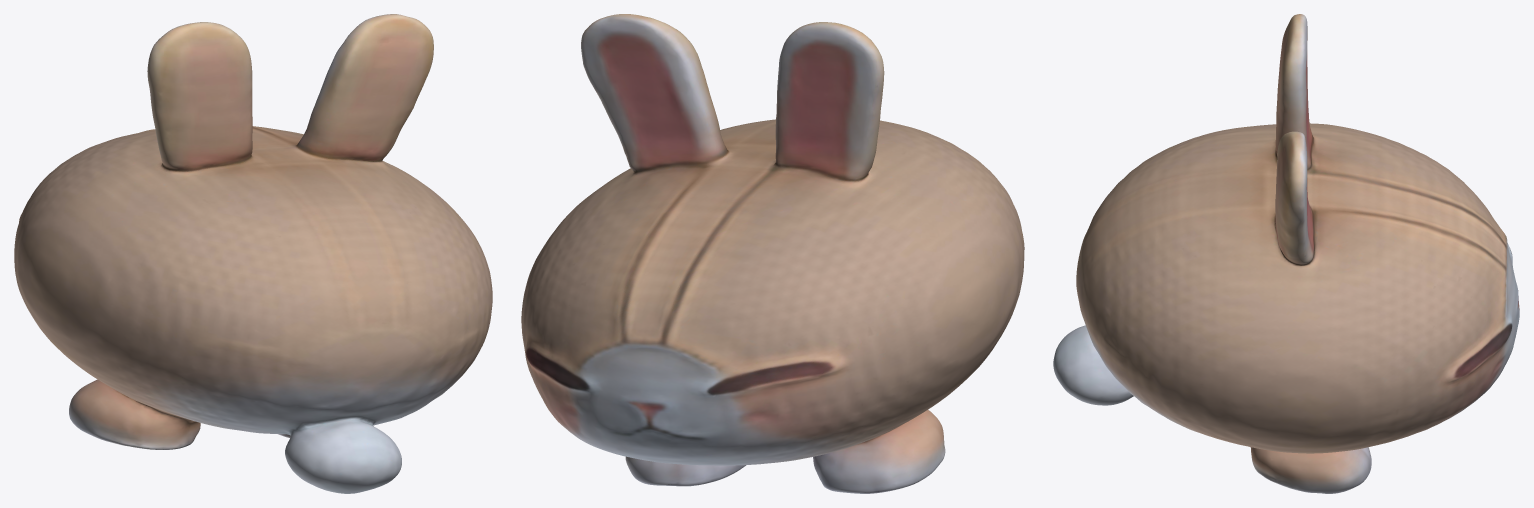
Rendered from bunny.glb.
3 renders of one model, left to right at view 1: azimuth 30°, elevation 25°; view 2: azimuth 150°, elevation 25°; view 3: azimuth 270°, elevation 25°, orthographic. The views are drawn at different scales.
Visible parts, largest first — view 1: lapin; view 2: lapin; view 3: lapin.
Part boxes in pixels (x1,y1,x2,y2): lapin: (14,14,492,493); lapin: (521,14,1024,493); lapin: (1053,14,1519,493).
Size of the model in its own units: 0.4041 by 0.4224 by 0.4461.
1 material, 1 textured.
